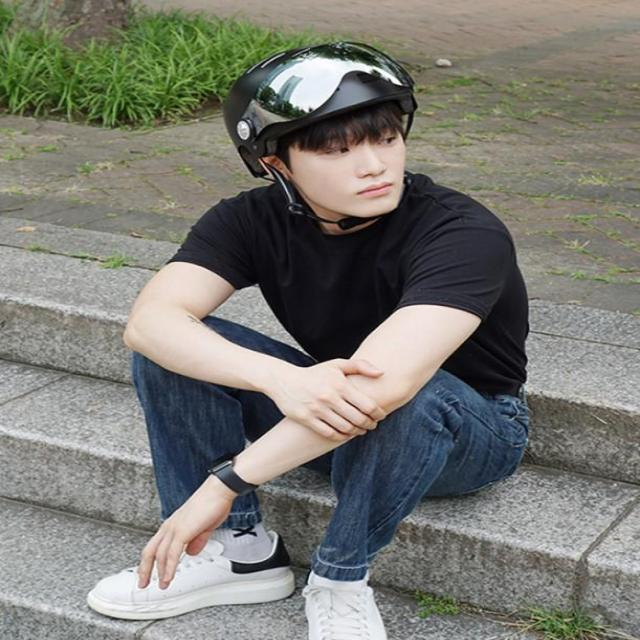helmet: (226, 42, 422, 234)
